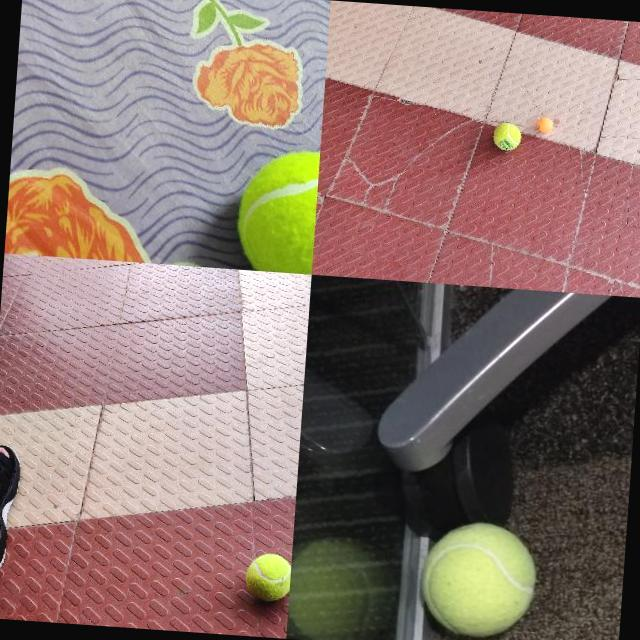Tennis Ball: (417, 517, 541, 640), (232, 146, 320, 273), (244, 552, 292, 602), (492, 120, 522, 150)
